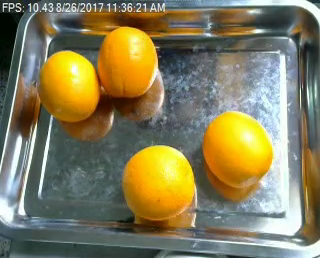Orange: (120, 143, 195, 219), (202, 110, 273, 186), (37, 49, 98, 121), (98, 26, 157, 98)
